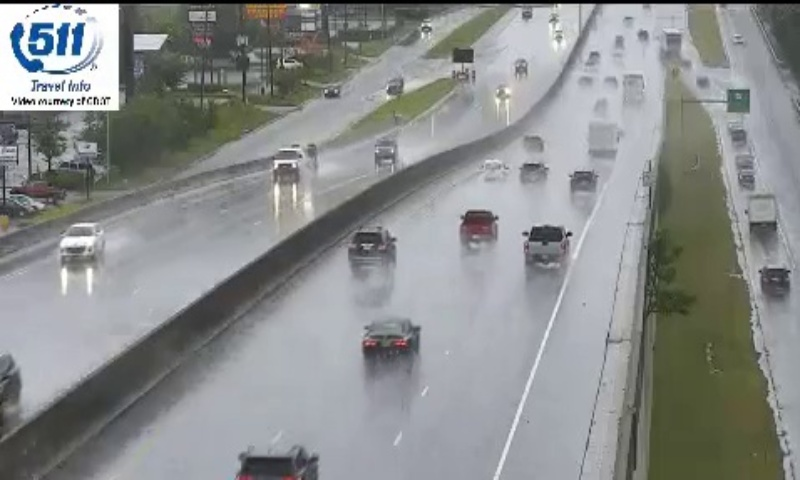car: (360, 318, 420, 359), (348, 230, 396, 270), (522, 224, 569, 264), (460, 209, 497, 243)
